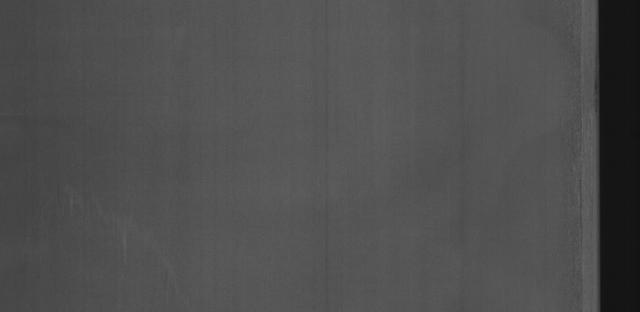silk_spot: (37, 181, 195, 287)
